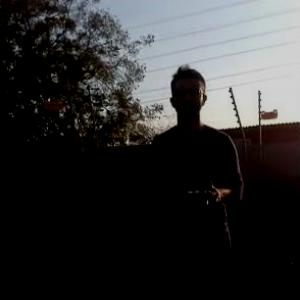follow: (141, 58, 252, 299)
